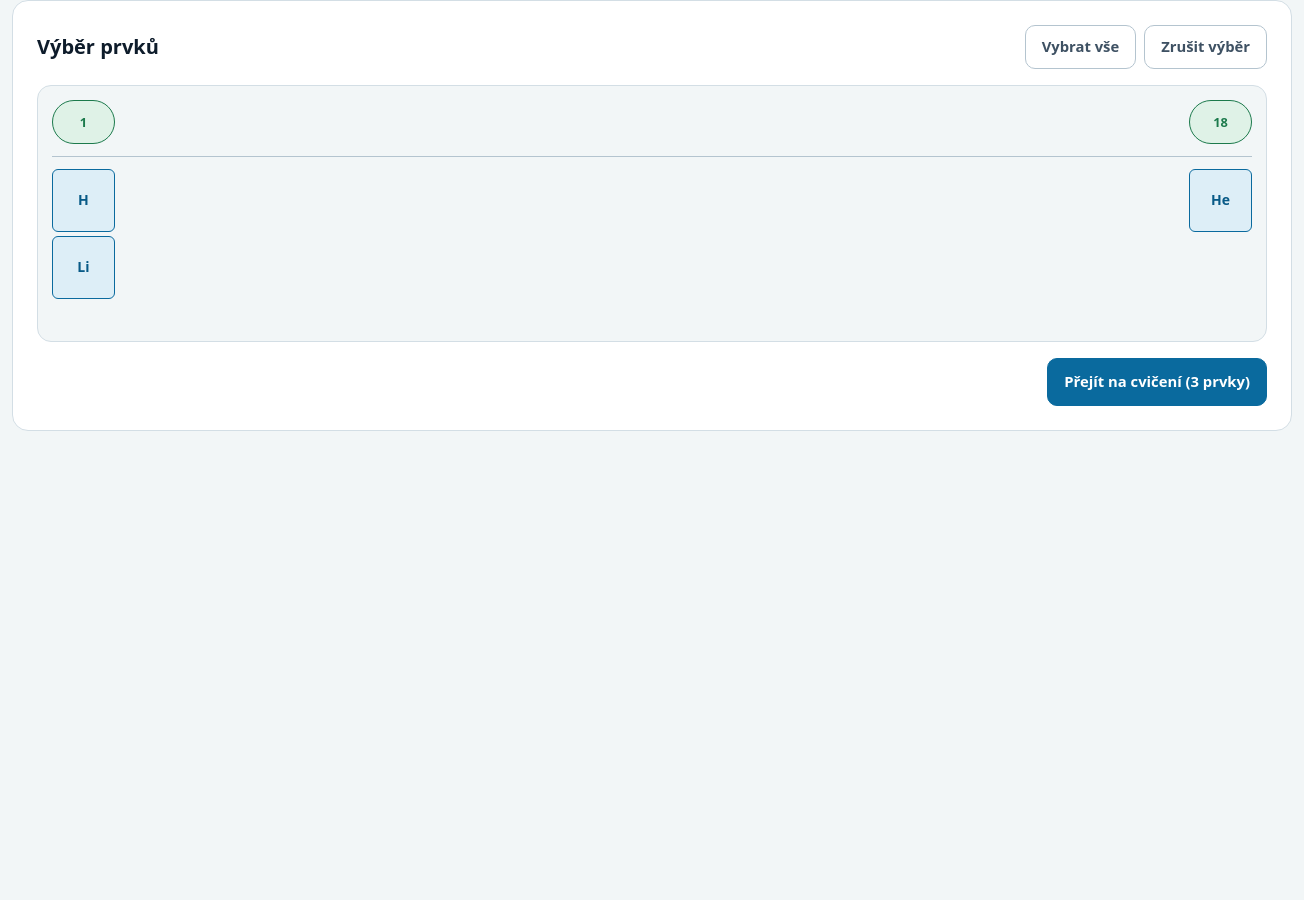
PeriodicTableNamePractice exercise › accepts a name without diacritics with a hint
Step 1. Click the button "Přejít na cvičení (3 prvky)" → (1157, 382), box [1047,358,1267,406]
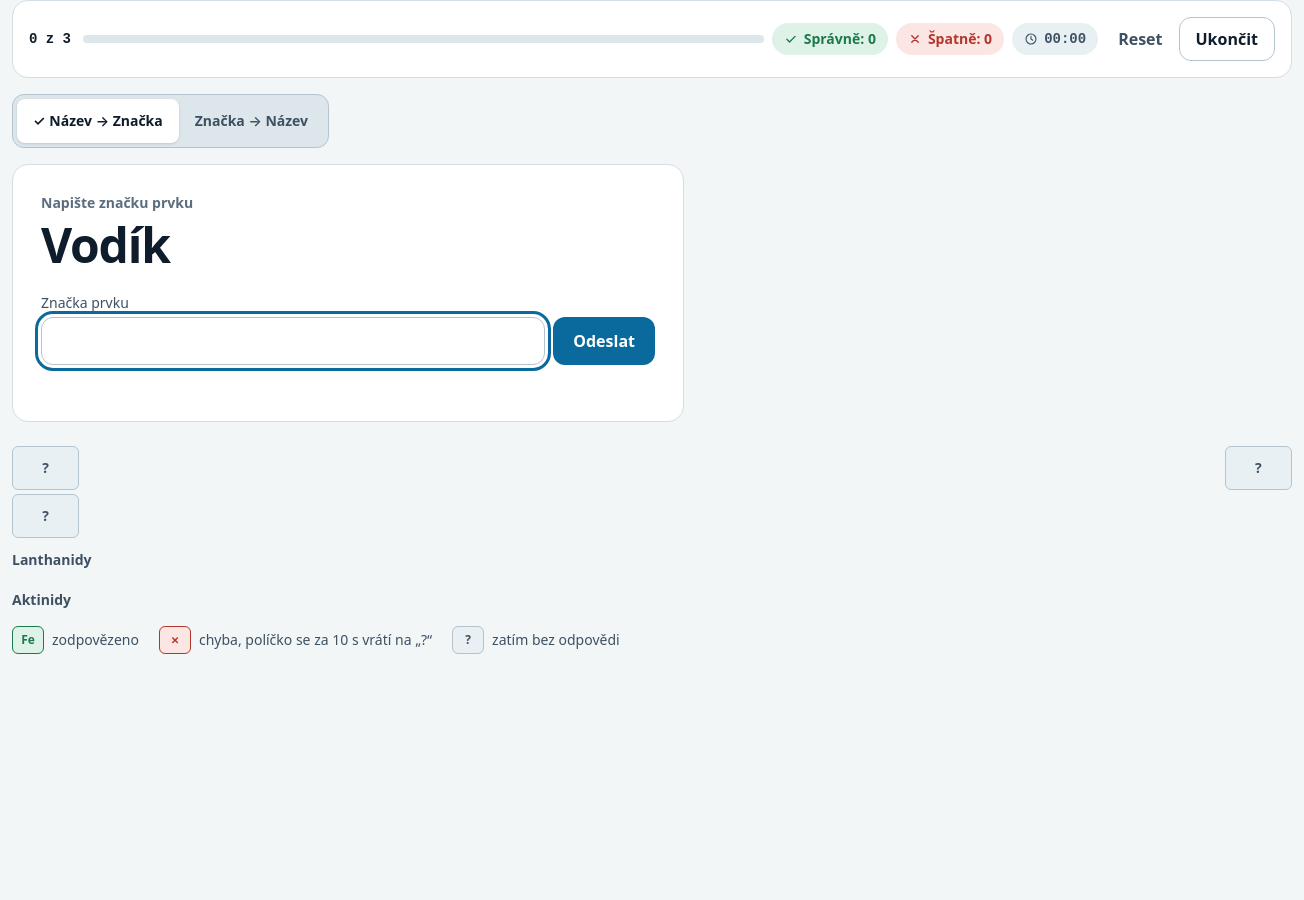
Step 2. Click the radio button labelled "Značka → Název" → (251, 120), box [195,111,308,130]
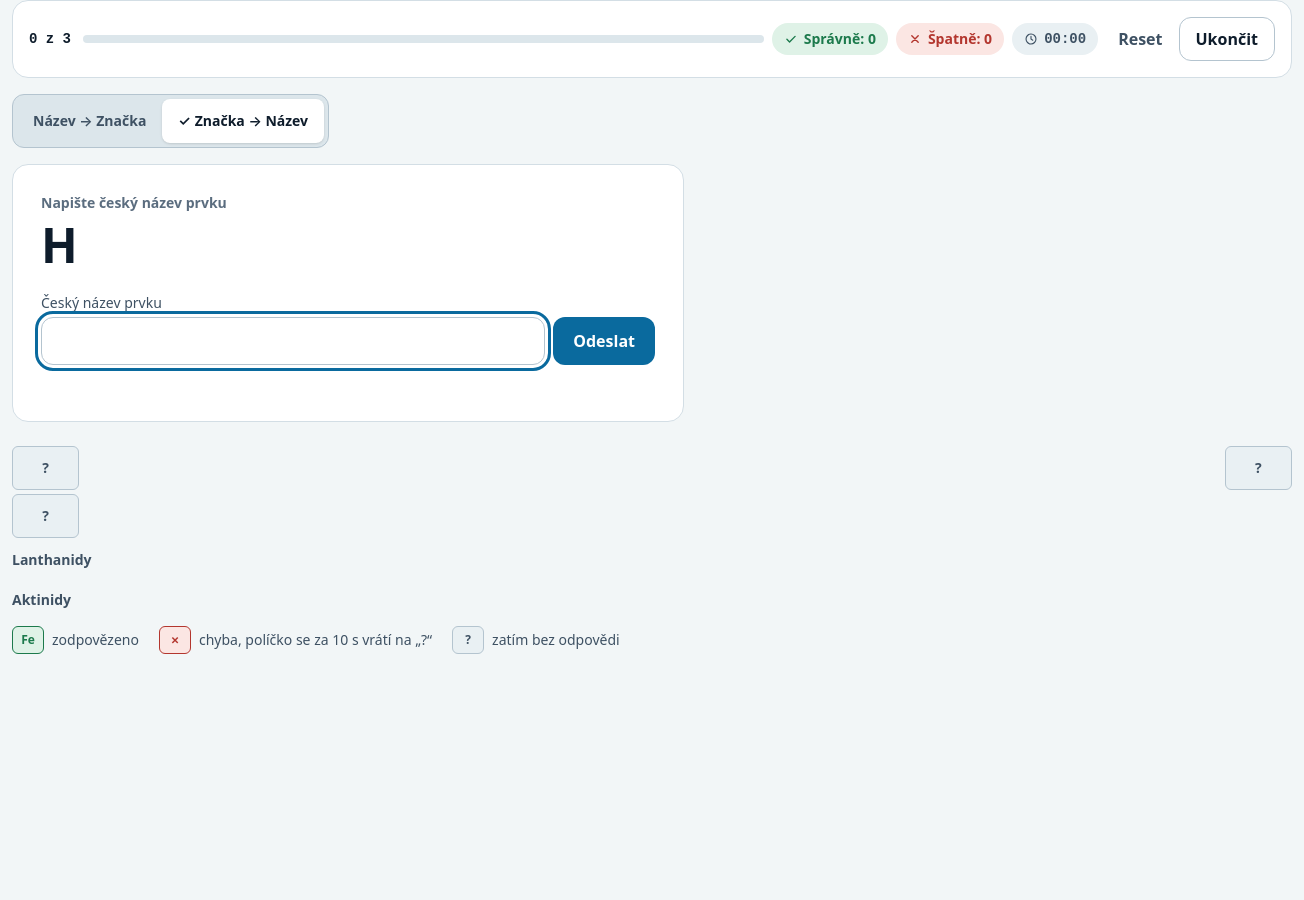
Step 3. Type "vodik" into the field → (293, 341), box [41,317,545,365]
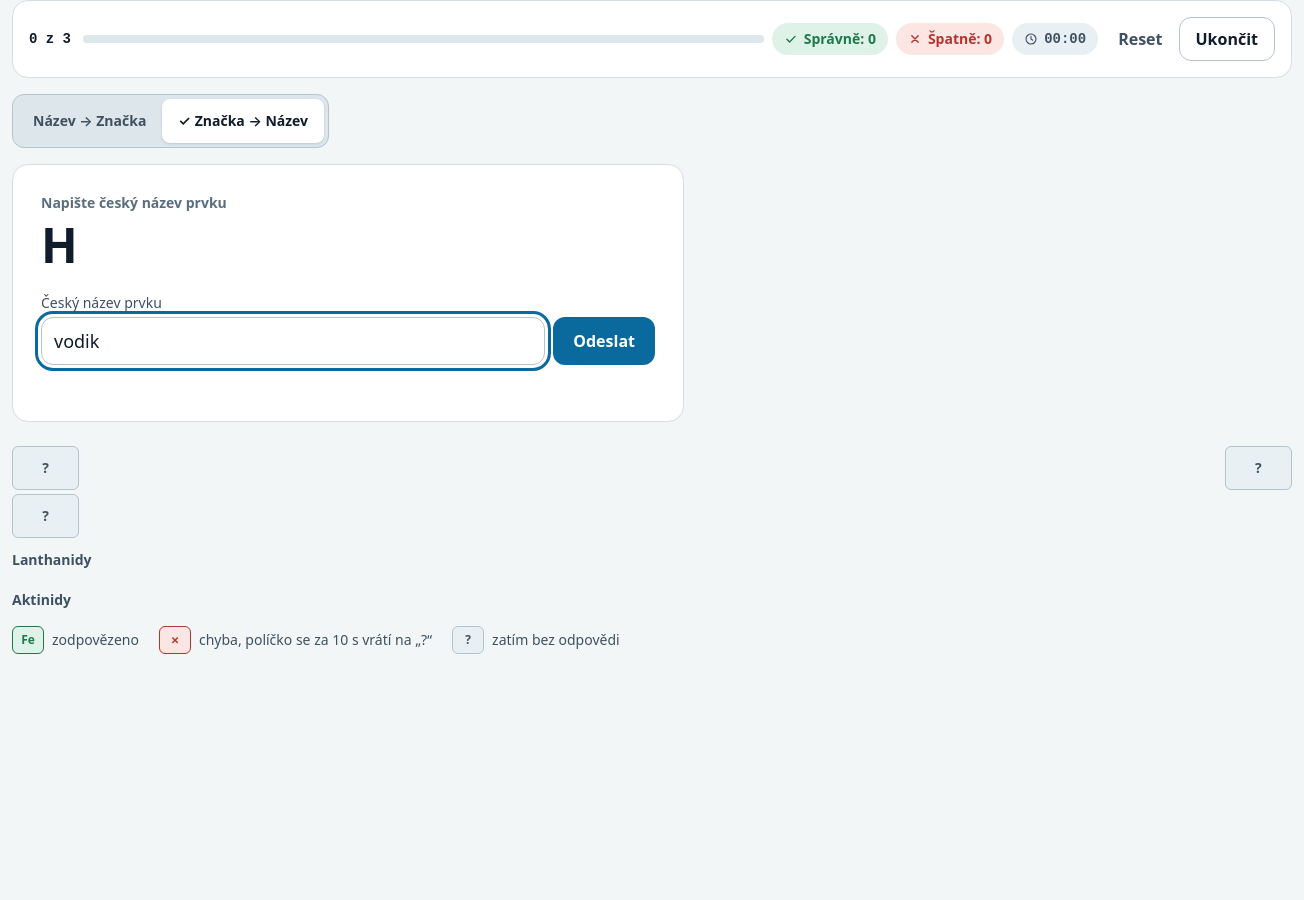
Step 4. Submit the form, box [41,293,655,365]
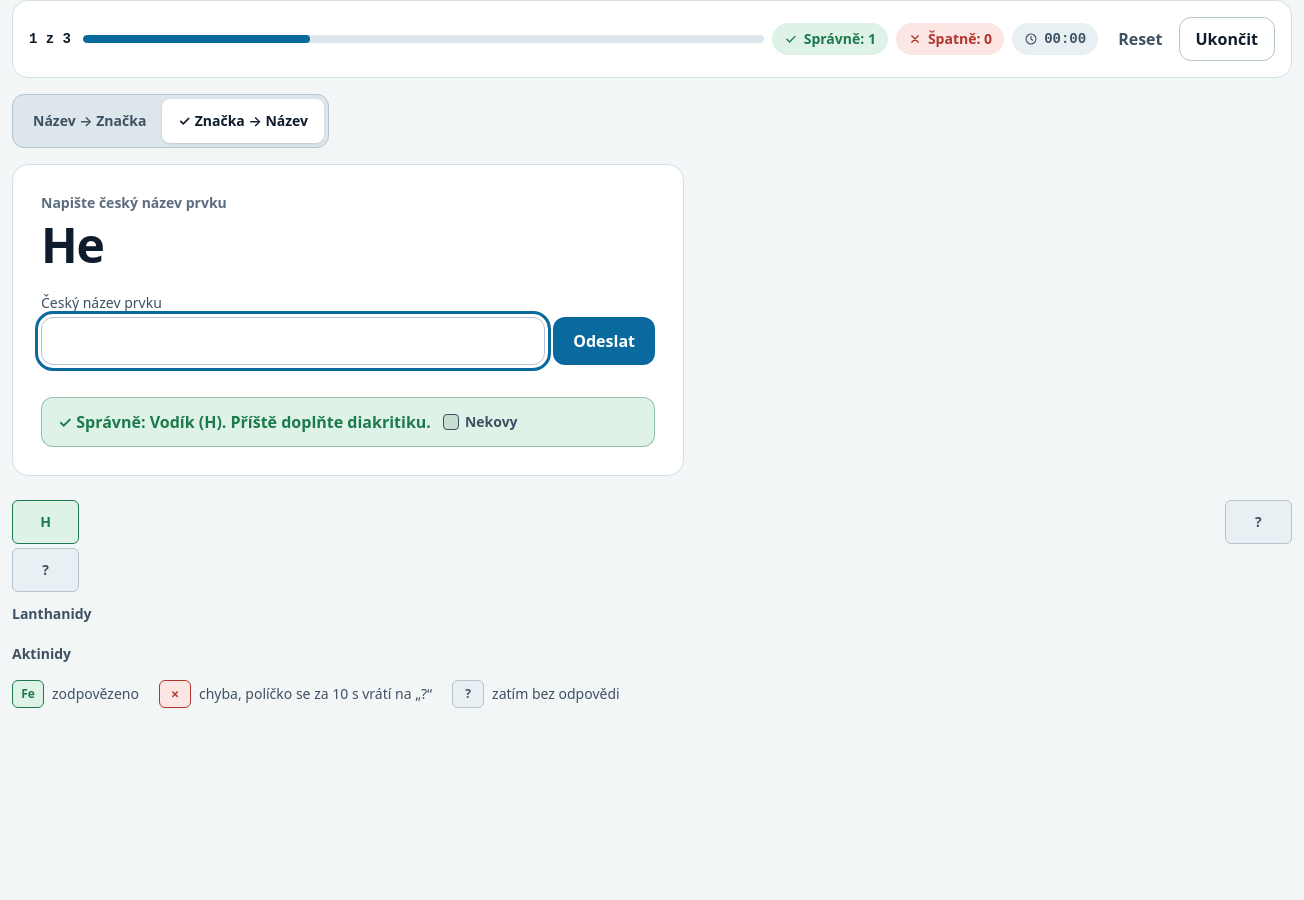
Check: the text "Správně: Vodík (H). Příště doplňte diakritiku." is shown, box [58,410,431,434]
Check: the text "Správně: 1" is shown, box [804,29,876,49]
